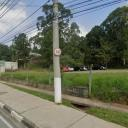speed_limit_50: (54, 47, 62, 57)
